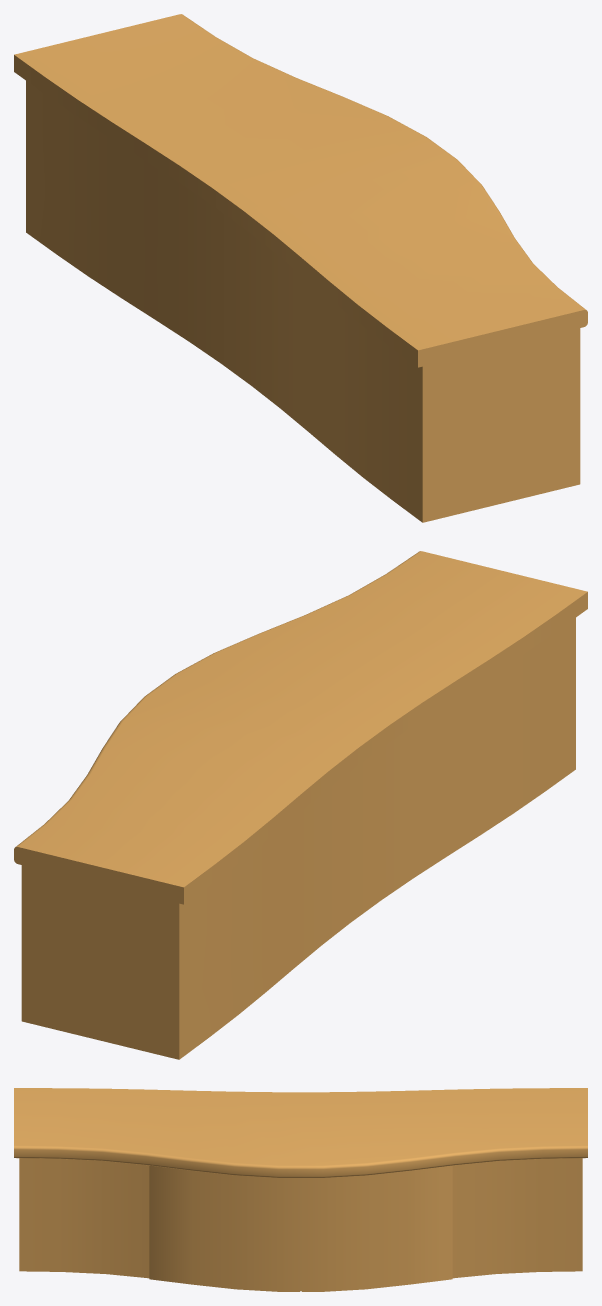
Rendered from 電視櫃.fbx.
3 views of the same model, one above another, from view 1: azimuth 30°, elevation 25°; view 2: azimuth 150°, elevation 25°; view 3: azimuth 270°, elevation 25° (orthographic). The views are drawn at different scales.
Visible parts, largest first — view 1: Cube.004; view 2: Cube.004; view 3: Cube.004.
Boxes of the visible parts, box(x1,y1,x2,y2) form: Cube.004: box(14, 14, 587, 522); Cube.004: box(14, 551, 587, 1059); Cube.004: box(14, 1088, 587, 1291).
Bounding box in the file's own units: 289 × 215 × 889.
